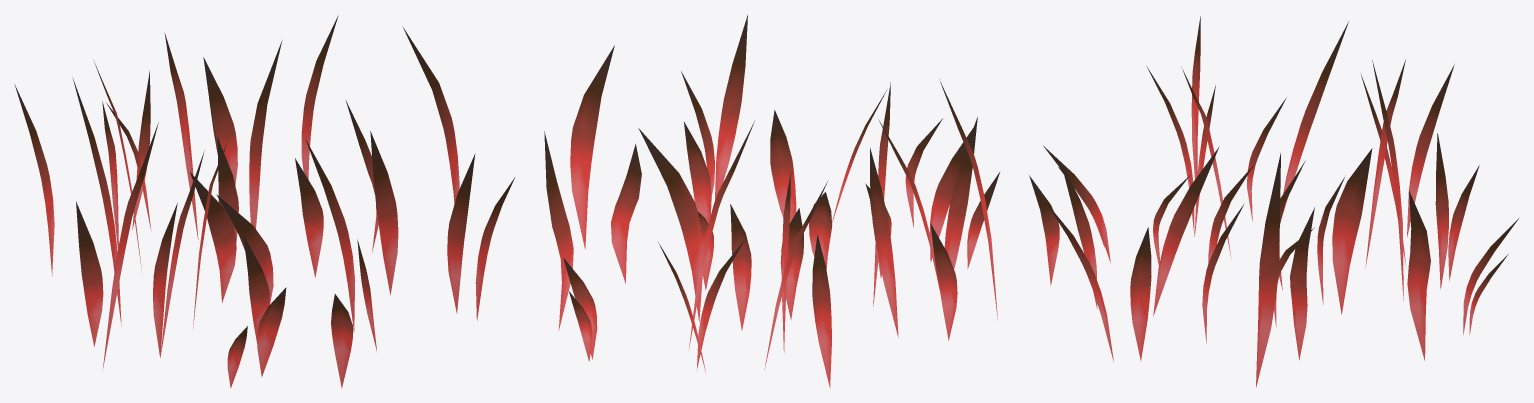
File: grass.fbx
3 views of the same model, side by side, from view 1: azimuth 30°, elevation 25°; view 2: azimuth 150°, elevation 25°; view 3: azimuth 270°, elevation 25° (orthographic). The views are drawn at different scales.
Parts seen in each view (by area): view 1: Plane.014; view 2: Plane.014; view 3: Plane.014.
Boxes of the visible parts, bbox=[...] form: Plane.014: bbox=[14, 15, 514, 388]; Plane.014: bbox=[544, 15, 1000, 387]; Plane.014: bbox=[1029, 16, 1518, 387].
Bounding box in the file's own units: 5.21 × 3.08 × 5.94.
